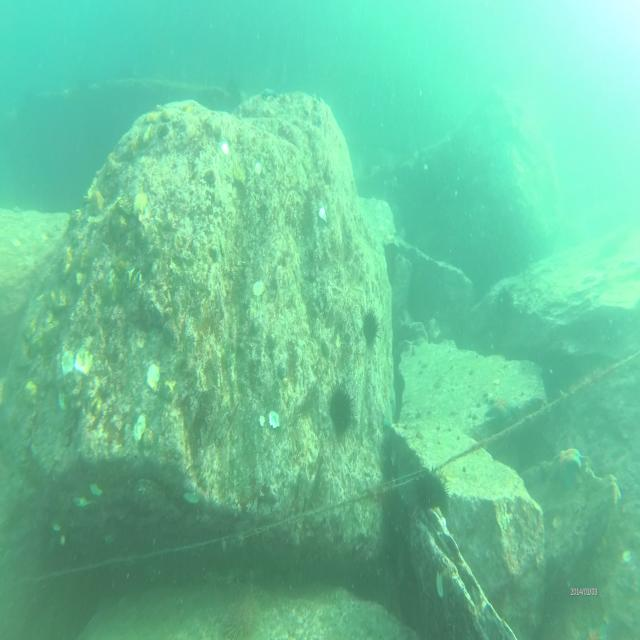echinus: (411, 462, 447, 511), (221, 597, 261, 639), (328, 378, 354, 440), (358, 296, 382, 350), (494, 282, 518, 326)
starfish: (486, 390, 518, 422)
